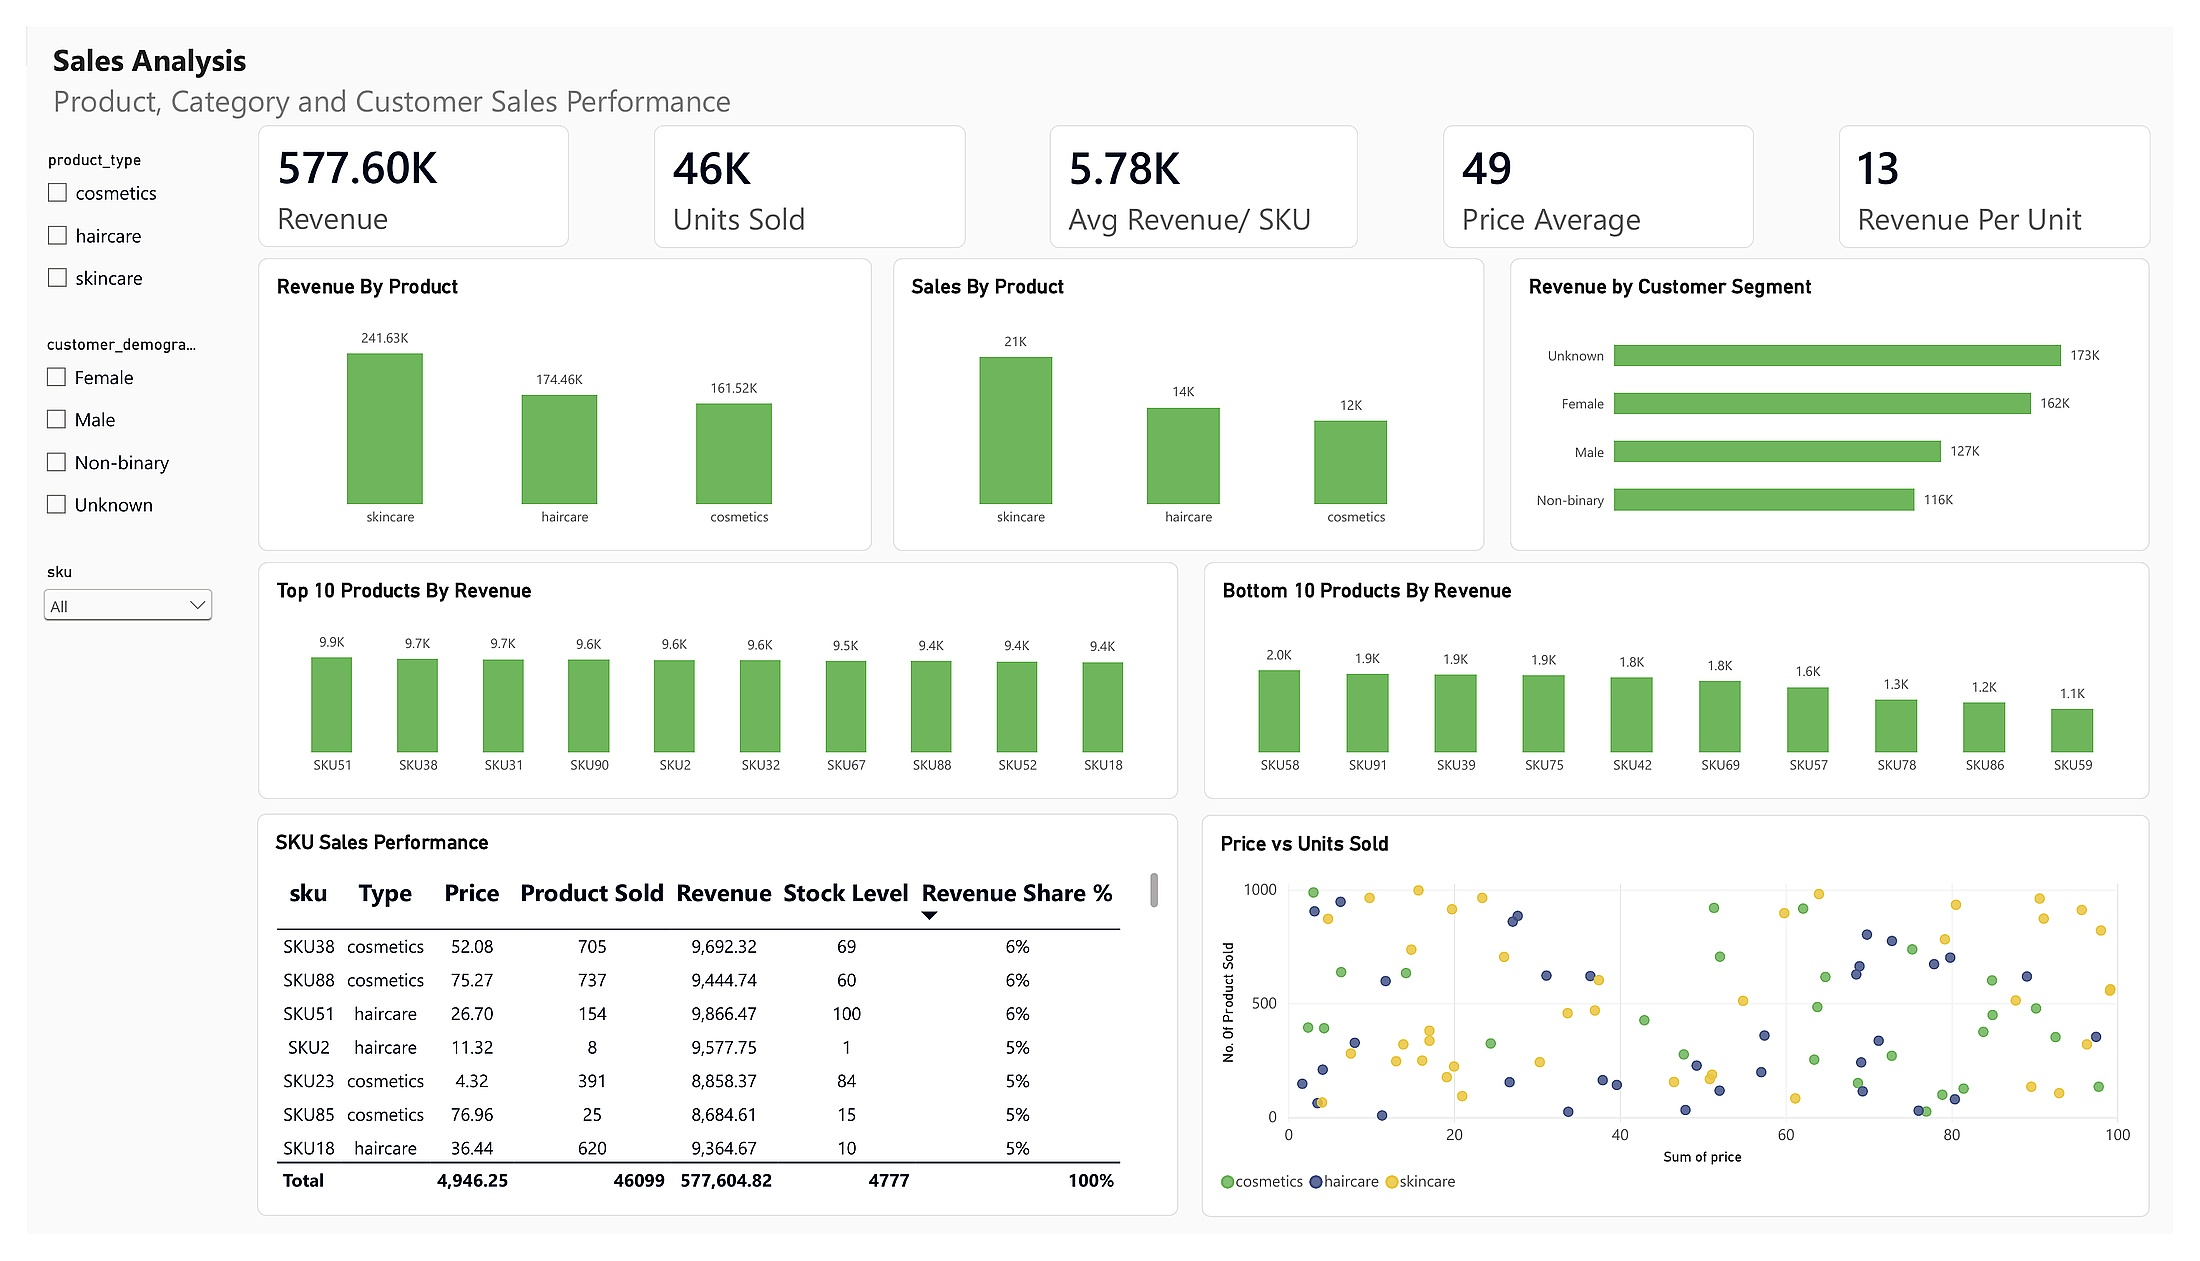

This screenshot's page, from the dashboard's own definition file:
{"tool":"powerbi","page":{"name":"Sales Analysis","canvas":[1920,1080],"ordinal":1},"visuals":[{"type":"cardVisual","fields":{"Data":["Sum(supply_chain_data_cleaned.revenue_generated)"]},"box":[207,88,278.5,109.3],"z":0},{"type":"cardVisual","fields":{"Data":["Sum(supply_chain_data_cleaned.number_of_products_sold)"]},"box":[561.2,88.5,278.5,109.3],"z":1000},{"type":"cardVisual","fields":{"Data":["supply_chain_data_cleaned.Avg Revenue/SKU"]},"box":[915.4,88.5,275.8,109.3],"z":2000},{"type":"cardVisual","fields":{"Data":["Avg(supply_chain_data_cleaned.price)"]},"box":[1267,88.5,278.5,109.3],"z":3000},{"type":"cardVisual","fields":{"Data":["supply_chain_data_cleaned.Revenue Per Unit"]},"box":[1621.3,88.5,278.5,109.3],"z":4000},{"type":"textbox","box":[24.4,11.1,626.7,77.8],"z":5000},{"type":"clusteredColumnChart","title":"Revenue By Product","fields":{"Category":["supply_chain_data_cleaned.product_type"],"Y":["Sum(supply_chain_data_cleaned.revenue_generated)"]},"box":[206.8,206.8,549.5,262.3],"z":6000},{"type":"columnChart","title":"Top 10 Products By Revenue","fields":{"Category":["supply_chain_data_cleaned.sku"],"Y":["Sum(supply_chain_data_cleaned.revenue_generated)"]},"box":[206.8,478.7,823.3,212.5],"z":7000},{"type":"scatterChart","title":"Price vs Units Sold","fields":{"Category":["supply_chain_data_cleaned.sku"],"Series":["supply_chain_data_cleaned.product_type"],"X":["Sum(supply_chain_data_cleaned.price)"],"Y":["Avg(supply_chain_data_cleaned.number_of_products_sold)"]},"box":[1051.1,704.6,848.2,360],"z":8000},{"type":"slicer","fields":{"Values":["supply_chain_data_cleaned.product_type"]},"box":[11,111,161,154],"z":9000},{"type":"columnChart","title":"Bottom 10 Products By Revenue","fields":{"Category":["supply_chain_data_cleaned.sku"],"Y":["Sum(supply_chain_data_cleaned.revenue_generated)"]},"box":[1053.1,478.7,846.3,212.5],"z":10000},{"type":"clusteredBarChart","title":"Revenue by Customer Segment","fields":{"Category":["supply_chain_data_cleaned.customer_demographics"],"Y":["Sum(supply_chain_data_cleaned.revenue_generated)"]},"box":[1326.8,206.8,572.5,262.3],"z":11000},{"type":"tableEx","title":"SKU Sales Performance","fields":{"Values":["supply_chain_data_cleaned.sku","supply_chain_data_cleaned.product_type","Sum(supply_chain_data_cleaned.price)","Sum(supply_chain_data_cleaned.number_of_products_sold)","Sum(supply_chain_data_cleaned.revenue_generated)","Sum(supply_chain_data_cleaned.stock_levels)","supply_chain_data_cleaned.Revenue Share %"]},"box":[206,704,824,360],"z":12000},{"type":"clusteredColumnChart","title":"Sales By Product","fields":{"Category":["supply_chain_data_cleaned.product_type"],"Y":["Sum(supply_chain_data_cleaned.number_of_products_sold)"]},"box":[775.4,206.8,528.4,262.3],"z":13000},{"type":"slicer","fields":{"Values":["supply_chain_data_cleaned.customer_demographics"]},"box":[10.2,275.5,161,204],"z":14000},{"type":"slicer","fields":{"Values":["supply_chain_data_cleaned.sku"]},"box":[10,480,161,212],"z":15000}]}

Visuals, with their boxes in screenshot pixels (x1, y1, x2, y2), scaled from the page's 1920x1080 canvas onto the 2200x1261 screenshot:
cardVisual - Sum(supply_chain_data_cleaned.revenue_generated): l=237, t=103, r=556, b=230
cardVisual - Sum(supply_chain_data_cleaned.number_of_products_sold): l=643, t=103, r=962, b=231
cardVisual - supply_chain_data_cleaned.Avg Revenue/SKU: l=1049, t=103, r=1365, b=231
cardVisual - Avg(supply_chain_data_cleaned.price): l=1452, t=103, r=1771, b=231
cardVisual - supply_chain_data_cleaned.Revenue Per Unit: l=1858, t=103, r=2177, b=231
textbox: l=28, t=13, r=746, b=104
"Revenue By Product" clusteredColumnChart: l=237, t=241, r=867, b=548
"Top 10 Products By Revenue" columnChart: l=237, t=559, r=1180, b=807
"Price vs Units Sold" scatterChart: l=1204, t=823, r=2176, b=1243
slicer - supply_chain_data_cleaned.product_type: l=13, t=130, r=197, b=309
"Bottom 10 Products By Revenue" columnChart: l=1207, t=559, r=2176, b=807
"Revenue by Customer Segment" clusteredBarChart: l=1520, t=241, r=2176, b=548
"SKU Sales Performance" tableEx: l=236, t=822, r=1180, b=1242
"Sales By Product" clusteredColumnChart: l=888, t=241, r=1494, b=548
slicer - supply_chain_data_cleaned.customer_demographics: l=12, t=322, r=196, b=560
slicer - supply_chain_data_cleaned.sku: l=11, t=560, r=196, b=808
